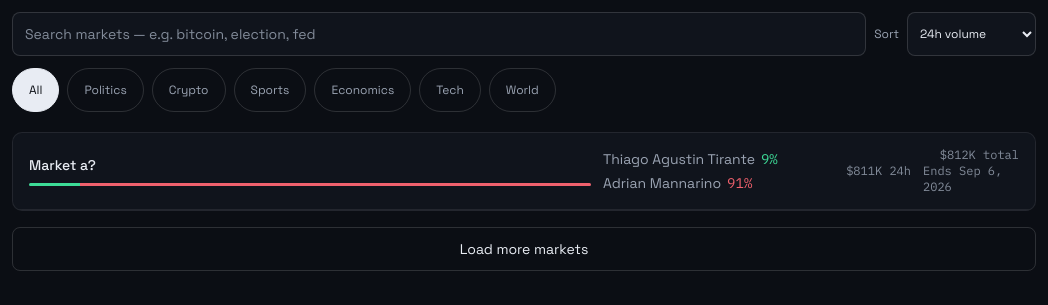
Test: Load more (UX-1) › sends the cursor the previous page returned
Expected: the heading "Market a?" is shown, [29,156,96,174]
Click the button "Load more markets".
click(524, 249)  # box [12,227,1036,271]
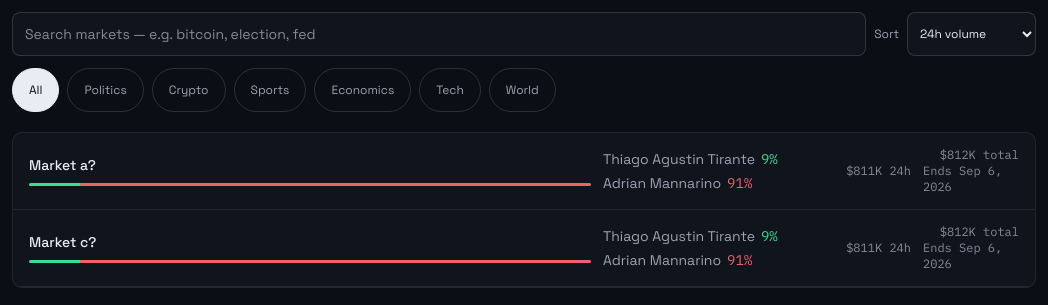
Now the heading "Market c?" is shown, box [29,233,96,251]
